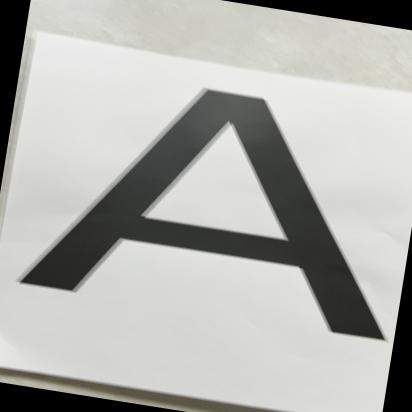seat: (6, 53, 412, 407)
